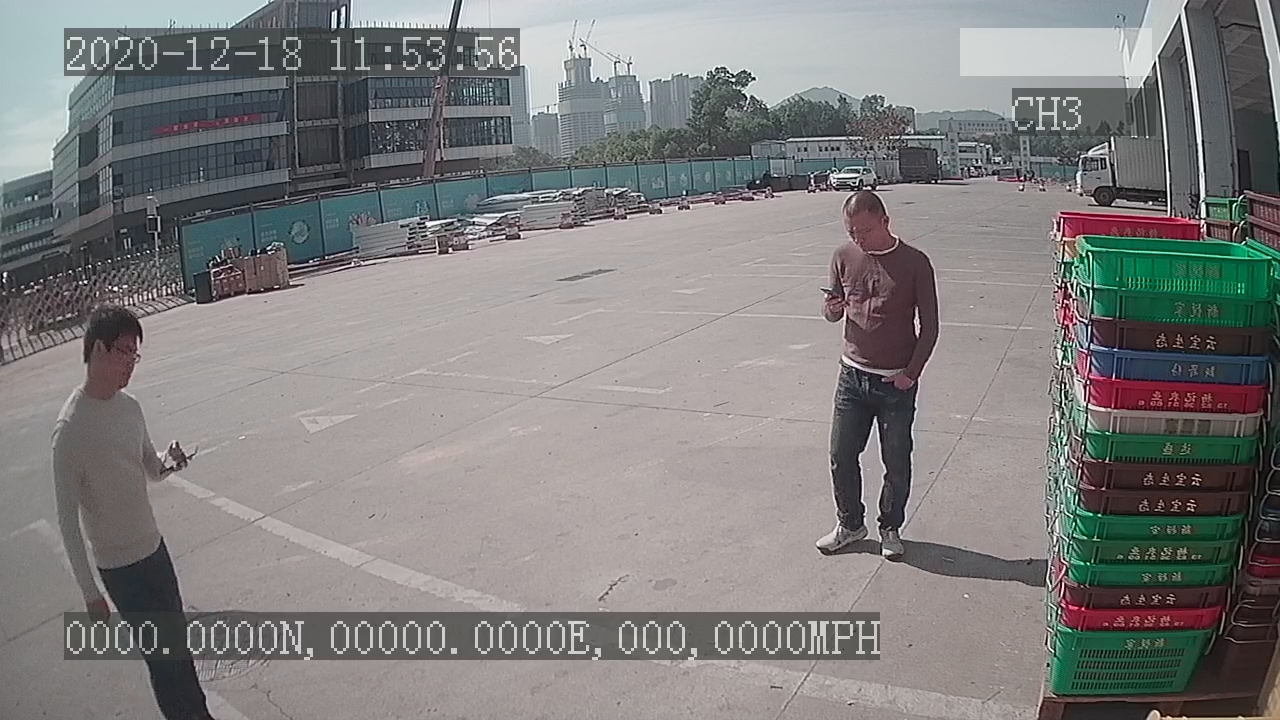person: (809, 190, 947, 565)
